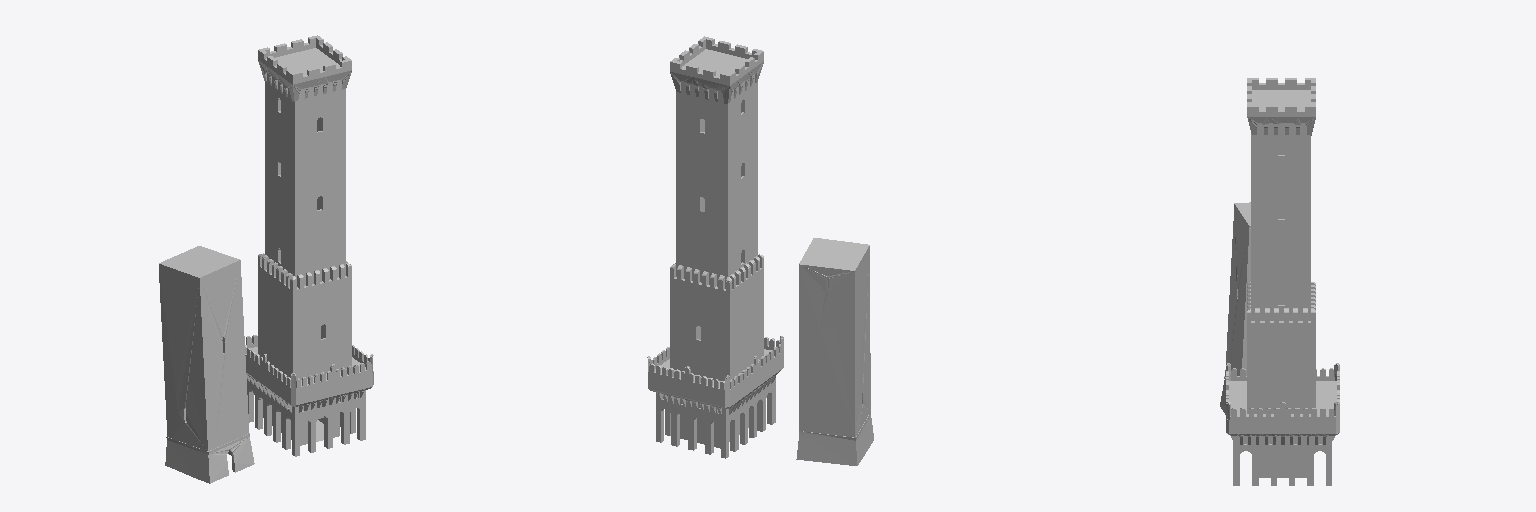
File: TorriMedie.obj
3 renders of one model, left to right at view 1: azimuth 30°, elevation 25°; view 2: azimuth 150°, elevation 25°; view 3: azimuth 270°, elevation 25°, orthographic.
Bounding box in the file's own units: 6.66 × 12.96 × 3.76.